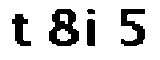5: (115, 5, 149, 50)
8: (46, 7, 82, 51)
i: (85, 6, 107, 50)
t: (6, 9, 34, 50)
